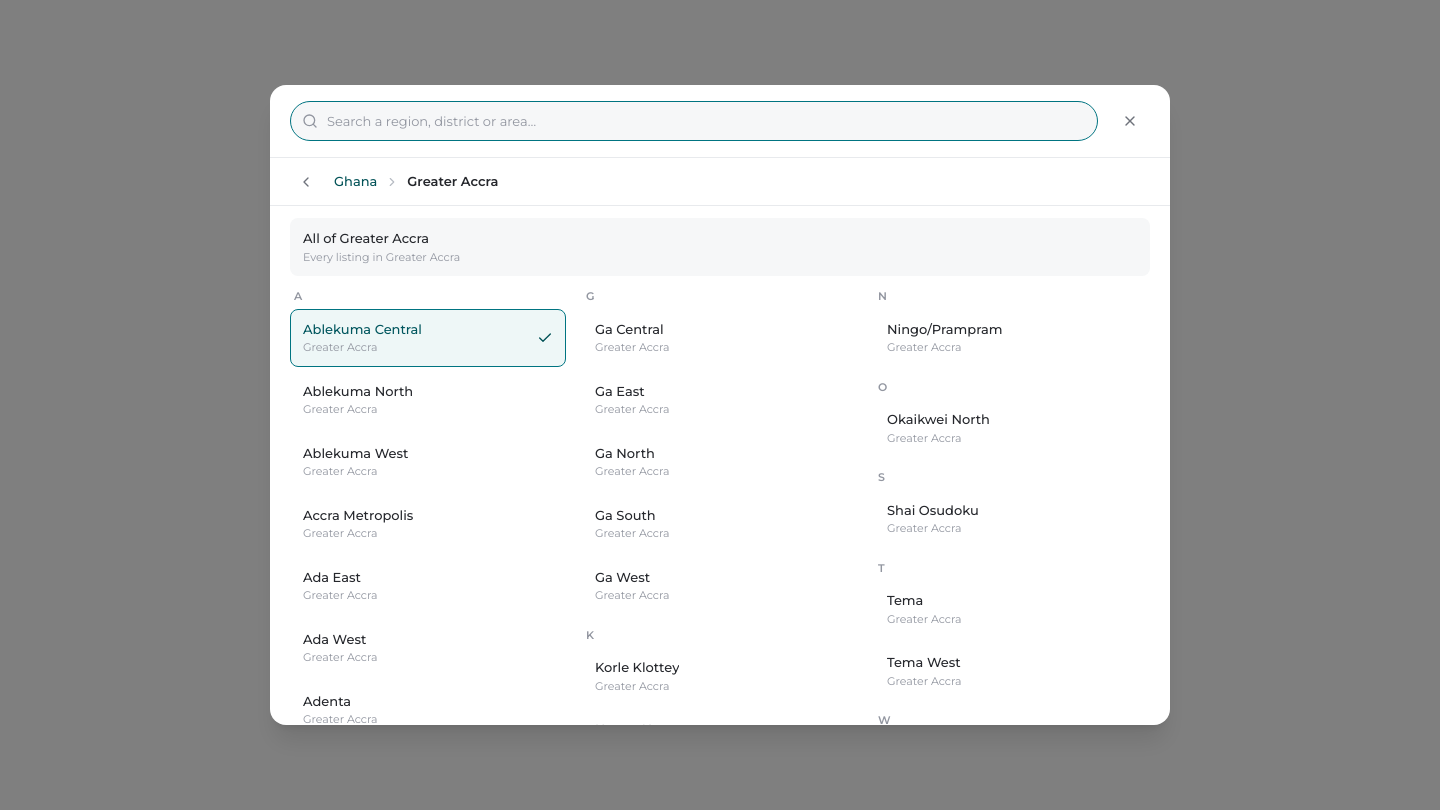
Test: LocationPicker — opens where the selection lives › the region holding a selected district says so
Click the button "Ghana" at (356, 182), box [328, 162, 383, 202]
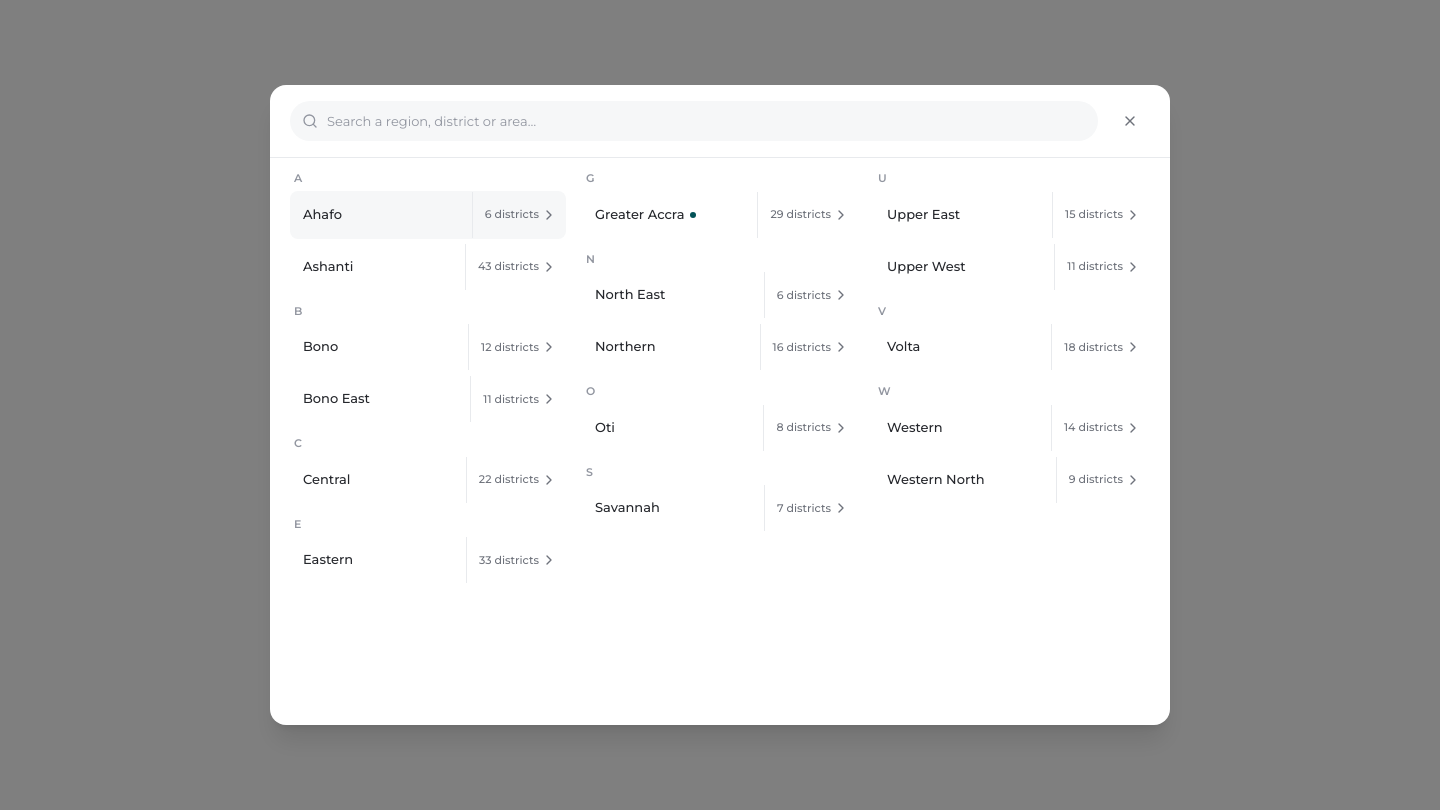
Check: the element named "includes your selection" is shown, box [690, 212, 696, 218]
